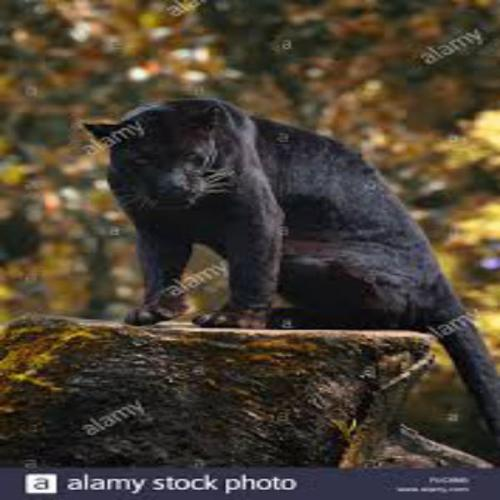panther-endangered: (80, 95, 498, 426)
